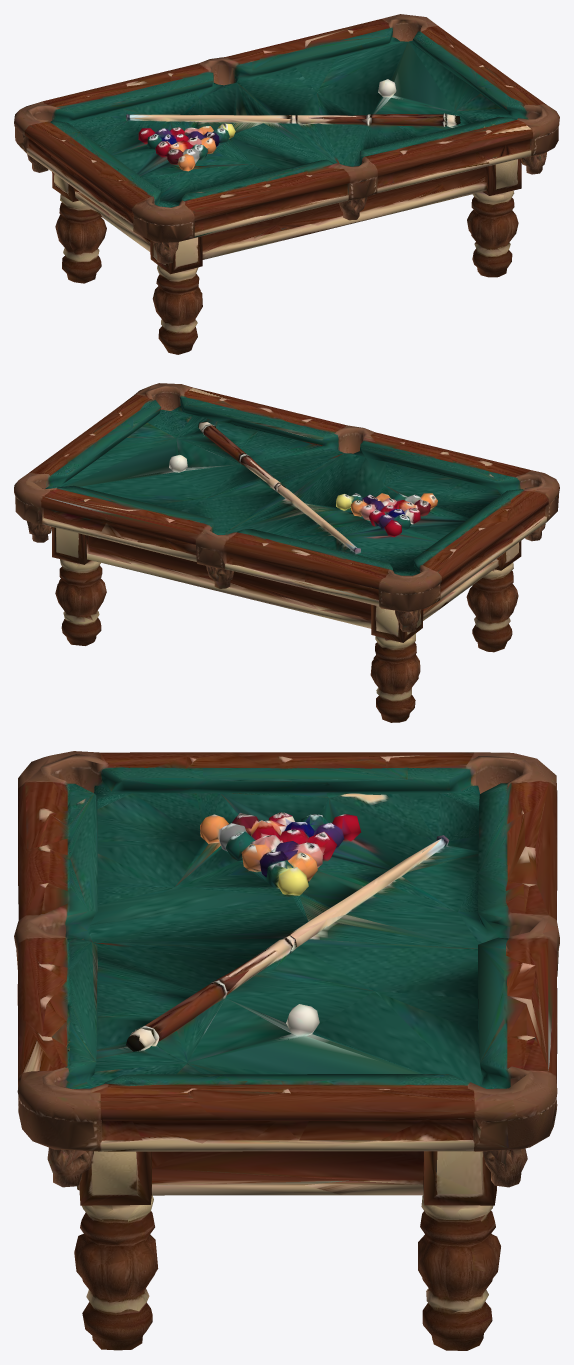
Rendered from poolTable.glb.
3 views of the same model, one above another, from view 1: azimuth 30°, elevation 25°; view 2: azimuth 150°, elevation 25°; view 3: azimuth 270°, elevation 25° (orthographic). The views are drawn at different scales.
Parts seen in each view (by area): view 1: Mesh_0; view 2: Mesh_0; view 3: Mesh_0.
Boxes of the visible parts, x1,y1,x2,y2 form: Mesh_0: (14,14,559,354); Mesh_0: (14,383,559,722); Mesh_0: (14,751,559,1350).
Bounding box in the file's own units: 2.36 × 0.9 × 1.53.
1 material, 1 textured.
